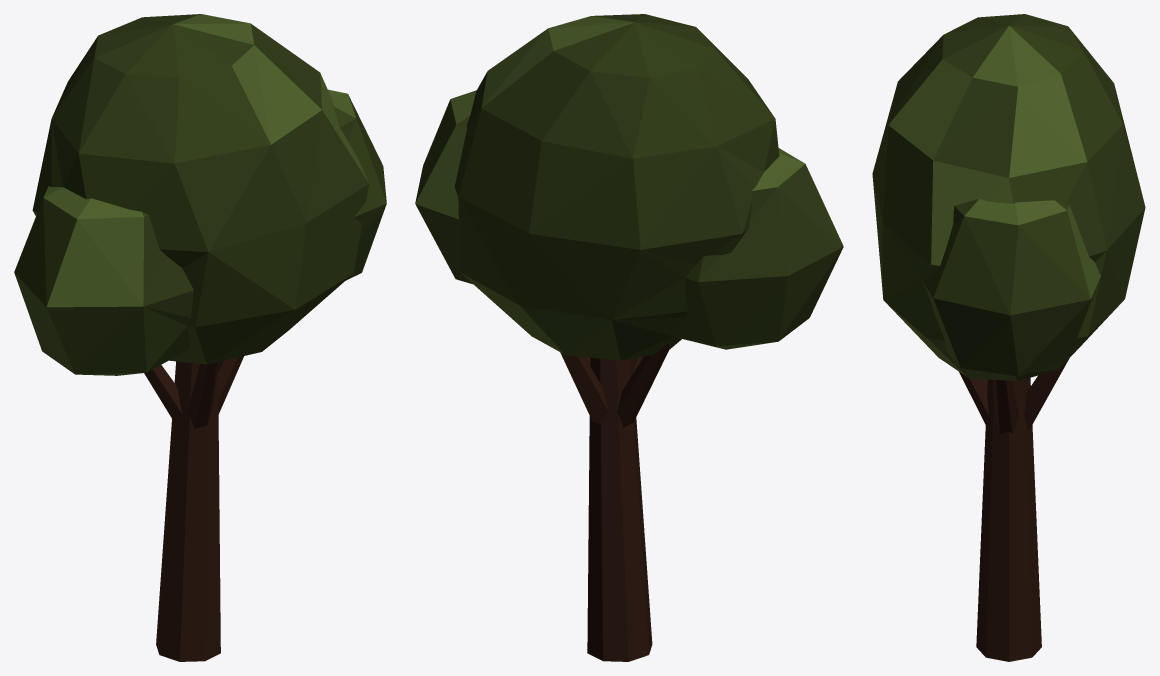
Rendered from Tree_Oak_04.fbx.
The picture shows the model from 3 angles, left to right: view 1: azimuth 30°, elevation 25°; view 2: azimuth 150°, elevation 25°; view 3: azimuth 270°, elevation 25°; orthographic projection. The views are drawn at different scales.
Parts seen in each view (by area): view 1: Tree_Oak_04_Foliage, Tree_Oak_04_Trunk; view 2: Tree_Oak_04_Foliage, Tree_Oak_04_Trunk; view 3: Tree_Oak_04_Foliage, Tree_Oak_04_Trunk.
Boxes of the visible parts, x1=… form: Tree_Oak_04_Foliage: x1=14, y1=14, x2=386, y2=375; Tree_Oak_04_Trunk: x1=144, y1=356, x2=243, y2=661; Tree_Oak_04_Foliage: x1=415, y1=14, x2=843, y2=360; Tree_Oak_04_Trunk: x1=560, y1=343, x2=670, y2=661; Tree_Oak_04_Foliage: x1=872, y1=14, x2=1145, y2=381; Tree_Oak_04_Trunk: x1=959, y1=358, x2=1069, y2=661.
Size of the model in its own units: 3.35 by 5.33 by 2.14.
Materials: 1 (1 with a texture image).
